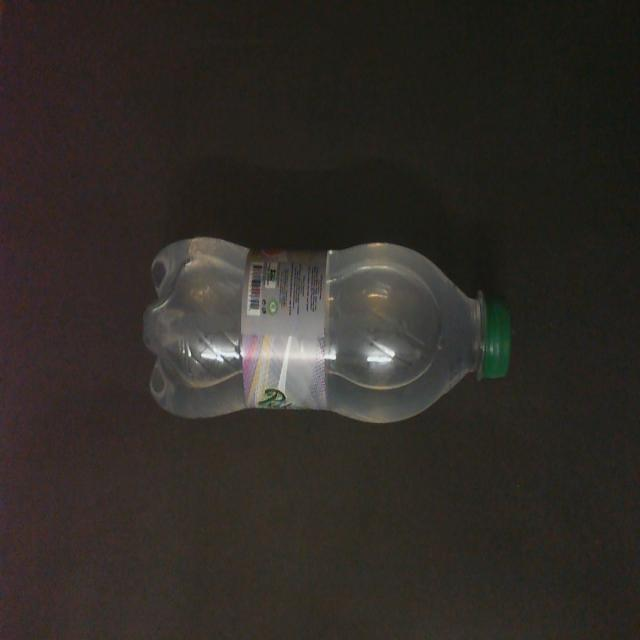non-defect: (141, 234, 513, 426)
